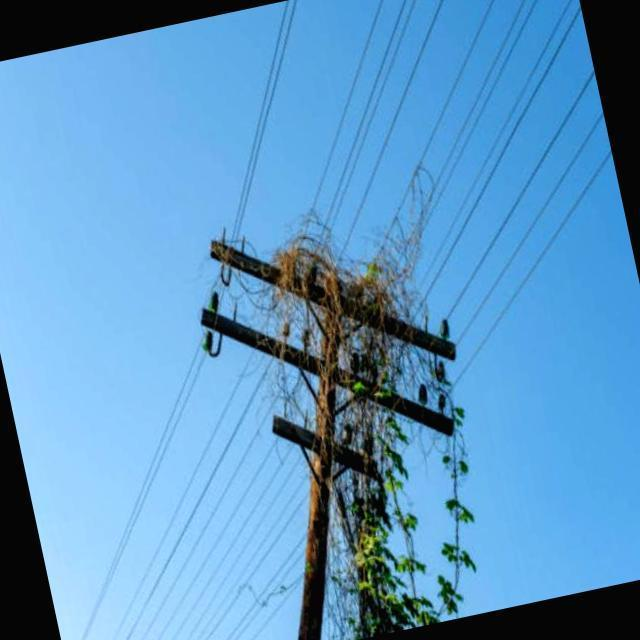critical vegetation: (262, 208, 508, 621)
